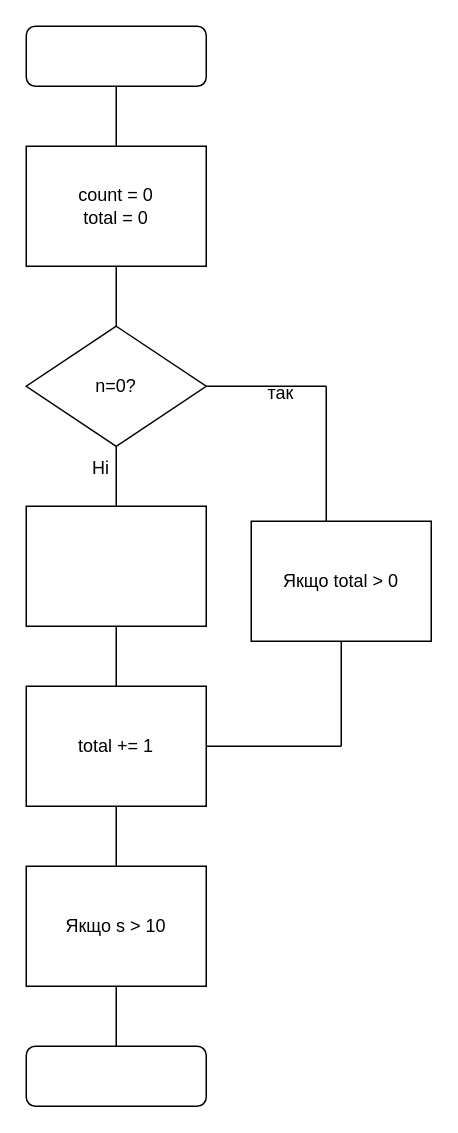
Image size: 458x1133. Some labels were removed from this diagram. Here are the shapes that lost their labels. From the top down, the centre of each, then its label:
the point at 115,55: Початок
the point at 115,565: percent=(total /count) * 100
the point at 115,1075: Кінець
